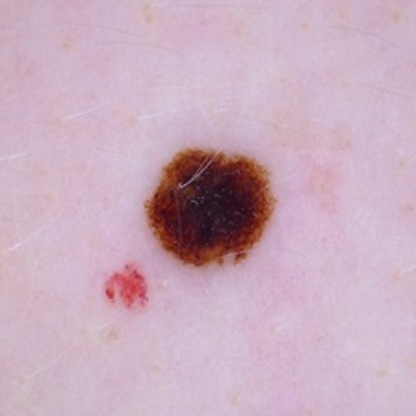malignant: (147, 146, 287, 275)
